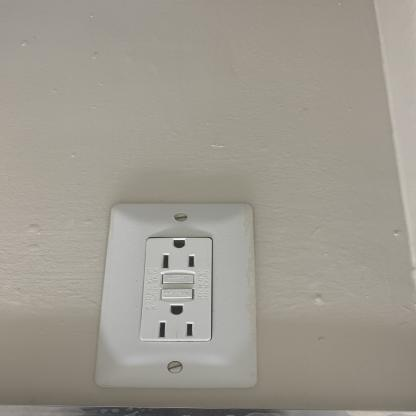OUTLET: (96, 202, 260, 389)
